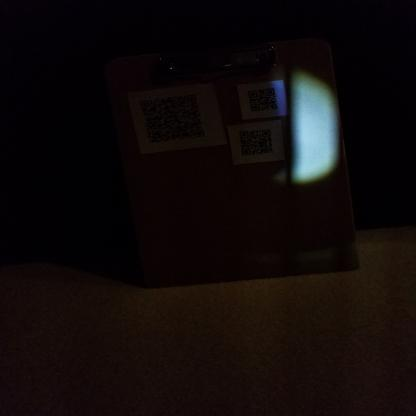qr: (135, 92, 207, 146), (237, 127, 275, 159), (243, 87, 281, 113)
